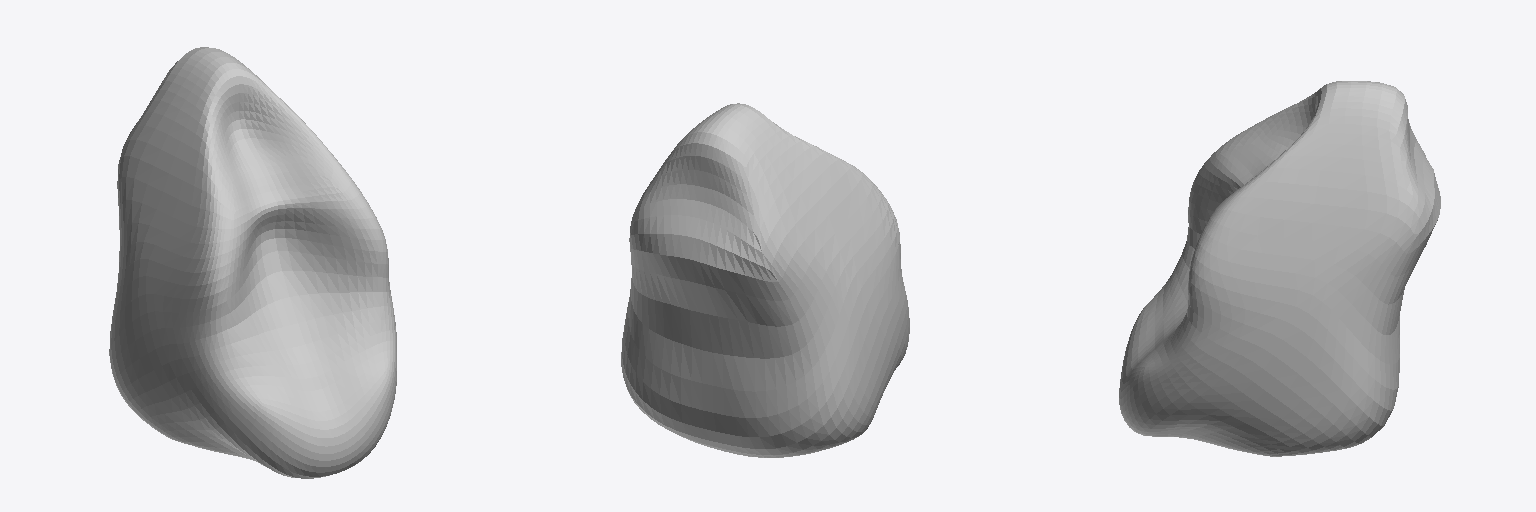
The model's file is vertabrae15.obj.
3 renders of one model, left to right at view 1: azimuth 30°, elevation 25°; view 2: azimuth 150°, elevation 25°; view 3: azimuth 270°, elevation 25°, orthographic.
Parts seen in each view (by area): view 1: Cube.109_Cube.111; view 2: Cube.109_Cube.111; view 3: Cube.109_Cube.111.
Part boxes in pixels (x1,y1,x2,y2): Cube.109_Cube.111: (109,47,396,478); Cube.109_Cube.111: (621,103,909,457); Cube.109_Cube.111: (1119,81,1440,456).
Bounding box in the file's own units: 0.0753 × 0.1095 × 0.0924.